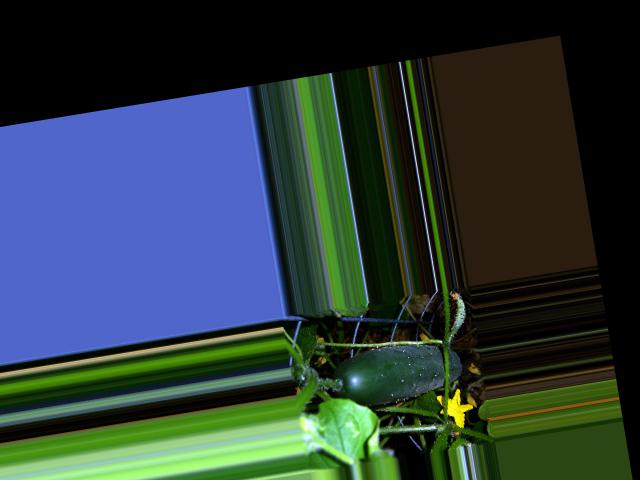cucumber: (327, 333, 464, 411)
